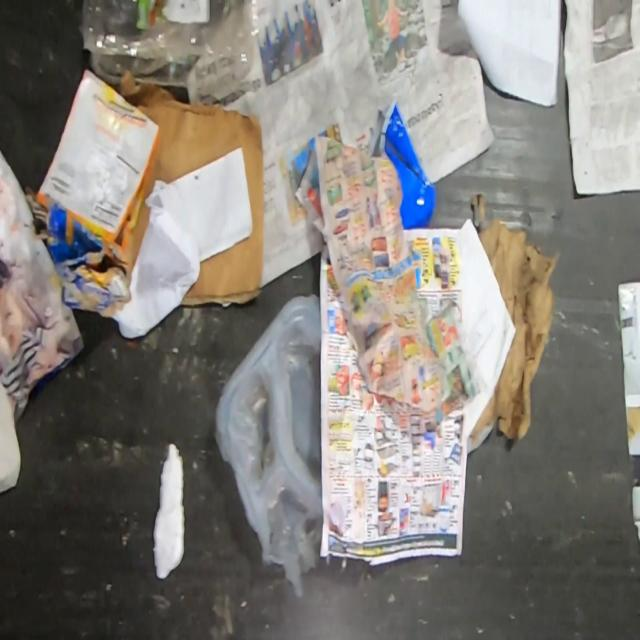cardboard: (109, 68, 264, 307), (34, 67, 159, 254), (468, 191, 560, 440), (24, 187, 131, 318)
rigid_plastic: (214, 294, 324, 601), (79, 0, 262, 97), (364, 99, 437, 230)
